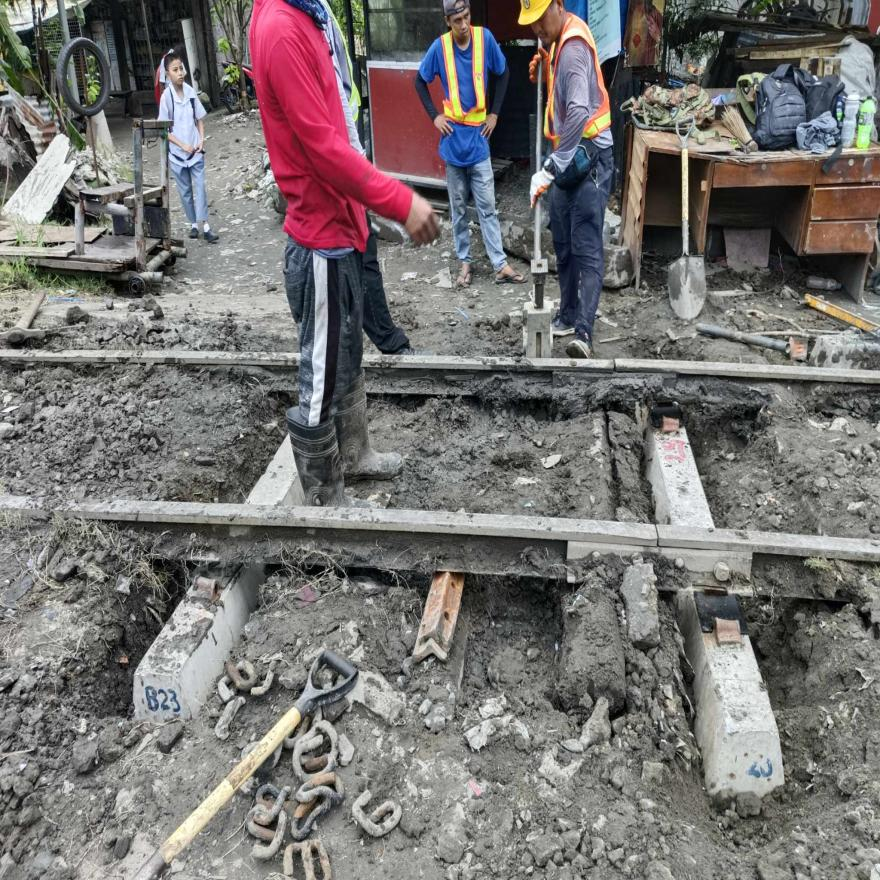railway-gap: (632, 504, 686, 573), (594, 341, 635, 391)
